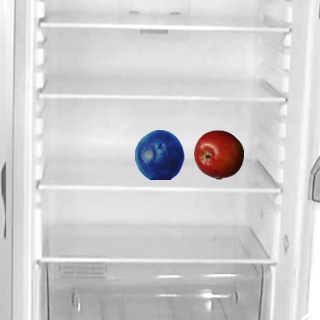Apple Braeburn: (193, 129, 243, 179)
Huckleberry: (134, 129, 184, 179)
